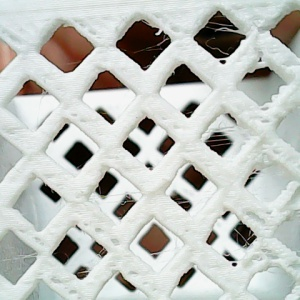3dpstringing: (203, 117, 253, 156), (203, 20, 240, 64), (220, 227, 257, 270), (93, 187, 146, 213), (140, 244, 184, 269), (1, 250, 41, 276), (77, 248, 110, 278), (34, 88, 53, 132), (145, 29, 173, 56)
3dpunderextrusion: (257, 105, 296, 164), (259, 232, 299, 280), (242, 205, 298, 227), (83, 222, 127, 248), (150, 10, 185, 37), (48, 274, 85, 298), (130, 272, 162, 293), (71, 108, 99, 130), (159, 115, 187, 134)
